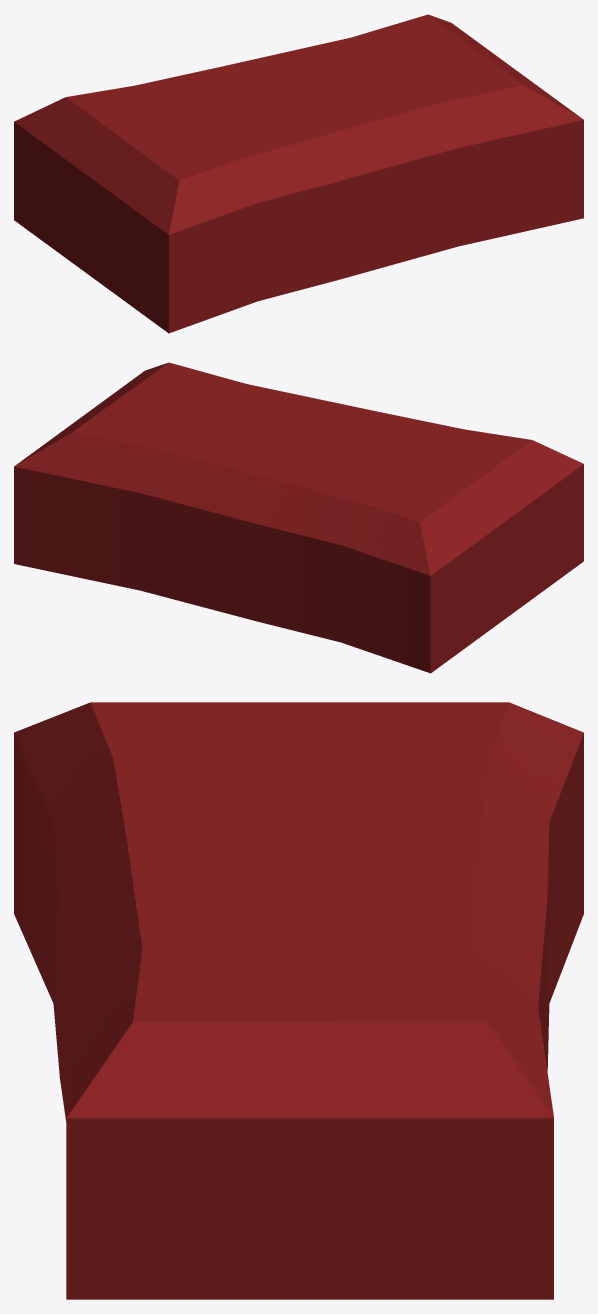
File: UI_Red_Dash.glb
3 renders of one model, top to bottom at view 1: azimuth 30°, elevation 25°; view 2: azimuth 150°, elevation 25°; view 3: azimuth 270°, elevation 25°, orthographic. The views are drawn at different scales.
Visible parts, largest first — view 1: UI_Red_Dash; view 2: UI_Red_Dash; view 3: UI_Red_Dash.
Part boxes in pixels (x1,y1,x2,y2): UI_Red_Dash: (14,14,583,333); UI_Red_Dash: (14,362,583,673); UI_Red_Dash: (14,702,583,1299).
Bounding box in the file's own units: 0.3672 × 0.1064 × 0.2293.
Materials: 1 (1 with a texture image).
